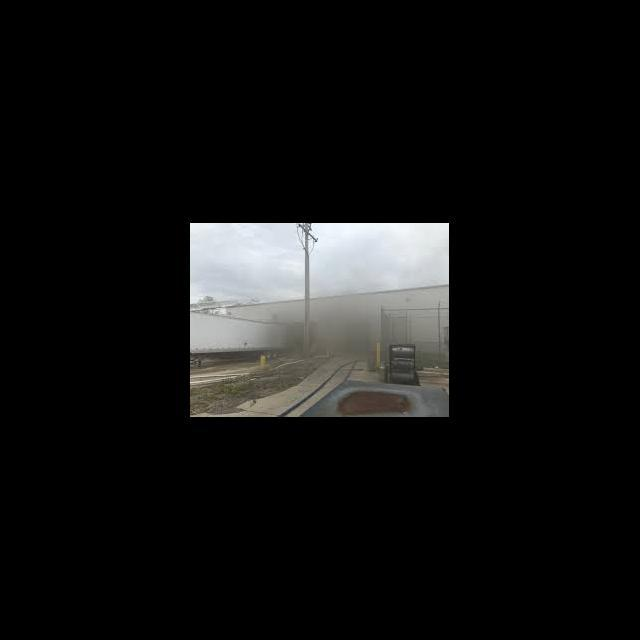Smoke: (329, 289, 376, 359)
